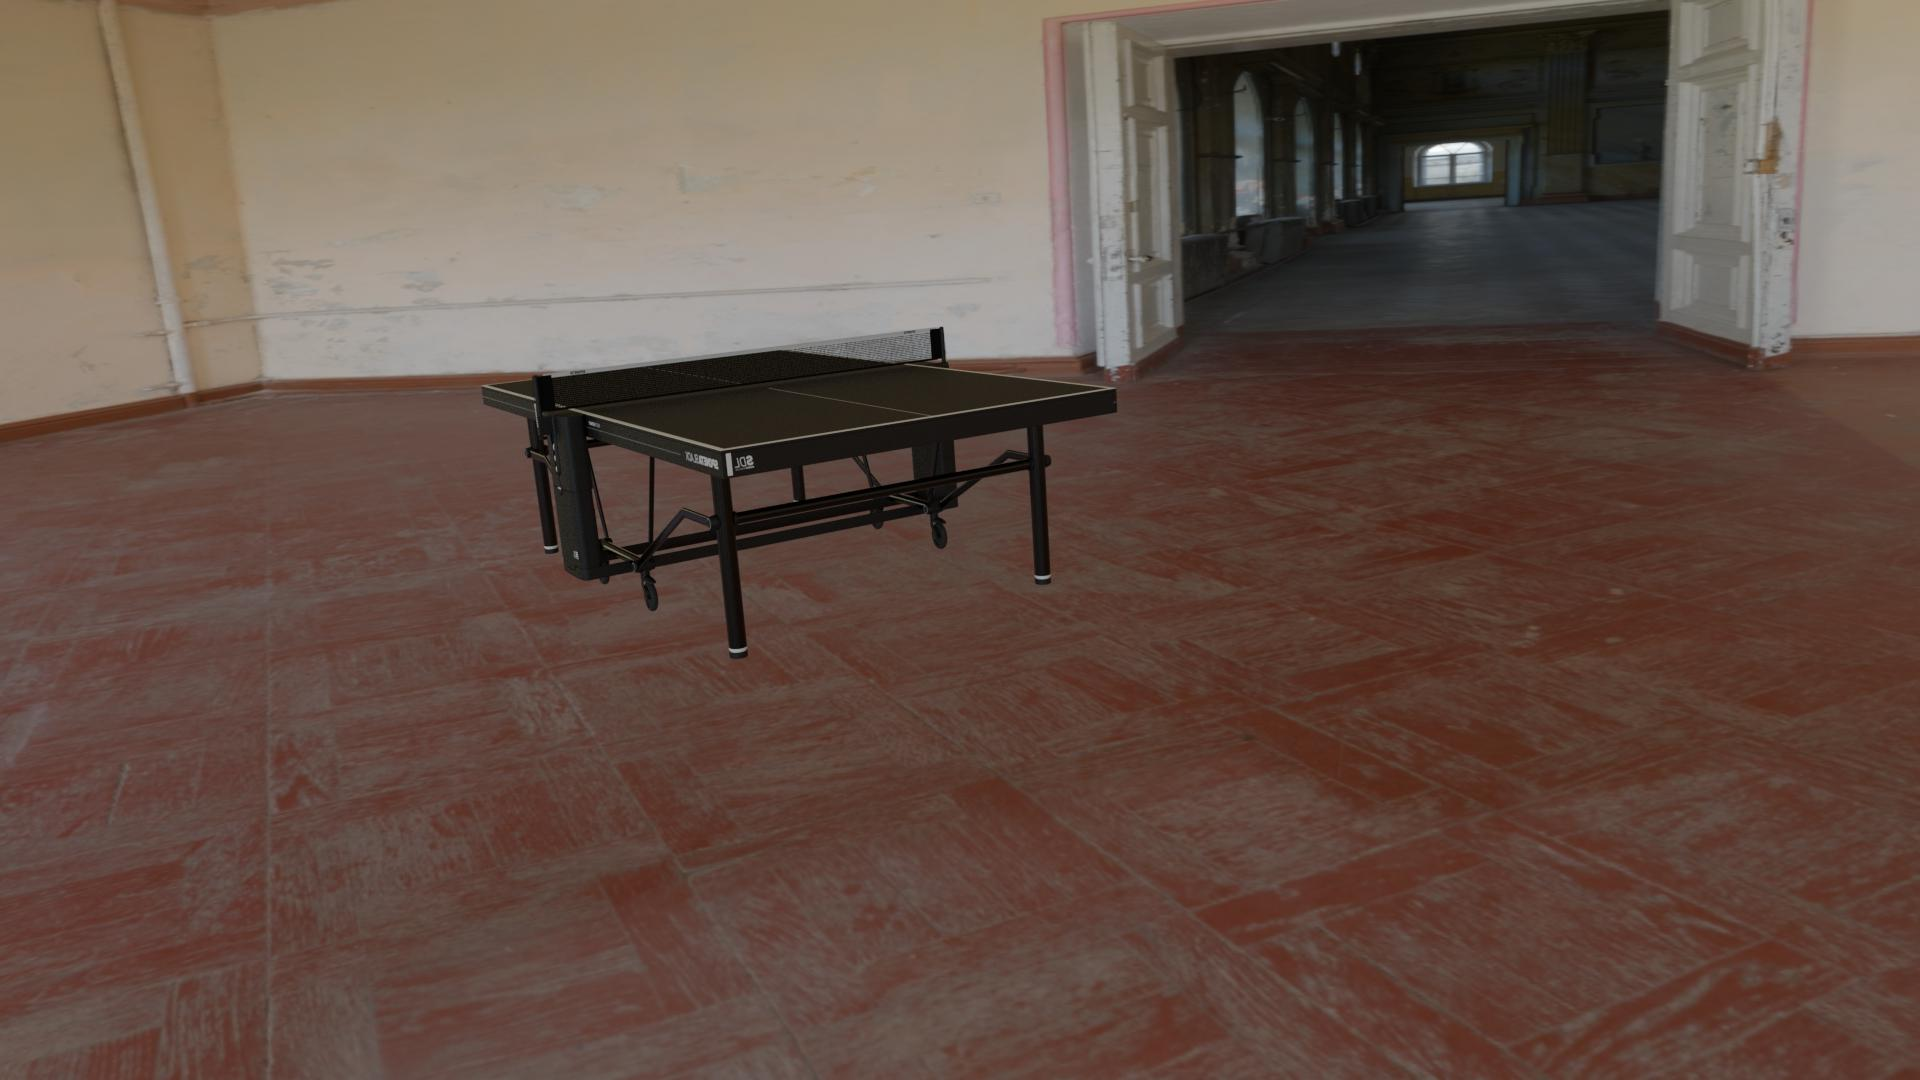table: (487, 349, 1109, 448)
